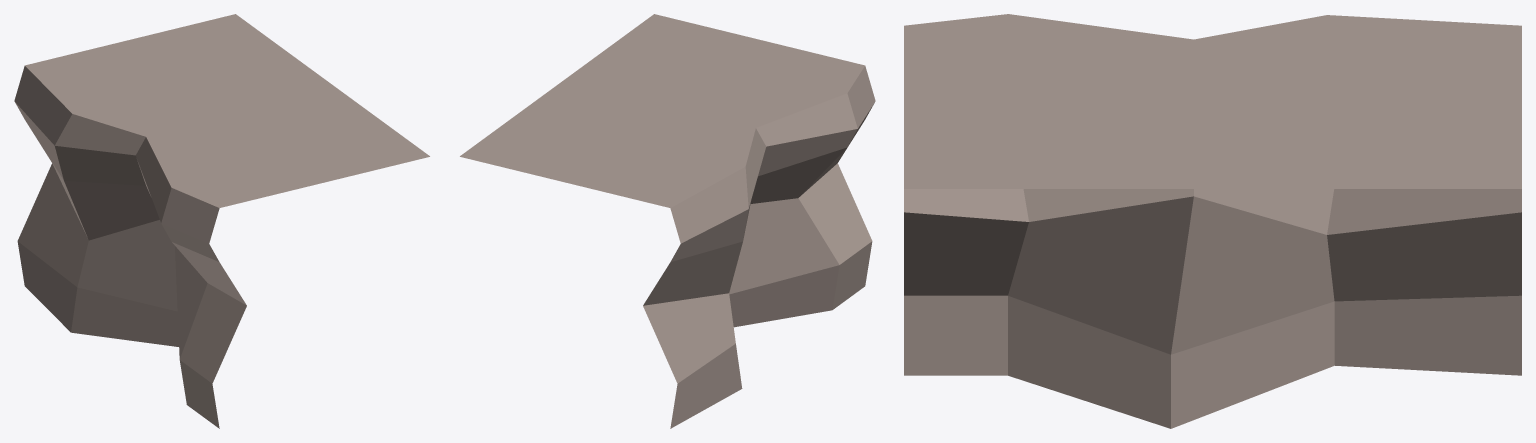
The model's file is ArenaWall_Straight_2m_A.fbx.
3 renders of one model, left to right at view 1: azimuth 30°, elevation 25°; view 2: azimuth 150°, elevation 25°; view 3: azimuth 270°, elevation 25°, orthographic. The views are drawn at different scales.
Parts seen in each view (by area): view 1: ArenaWall_Straight_2m_A; view 2: ArenaWall_Straight_2m_A; view 3: ArenaWall_Straight_2m_A.
Boxes of the visible parts, x1,y1,x2,y2 form: ArenaWall_Straight_2m_A: (14,14,429,428); ArenaWall_Straight_2m_A: (460,14,875,428); ArenaWall_Straight_2m_A: (904,14,1521,428).
Size of the model in its own units: 2.8 by 2.5 by 4.
